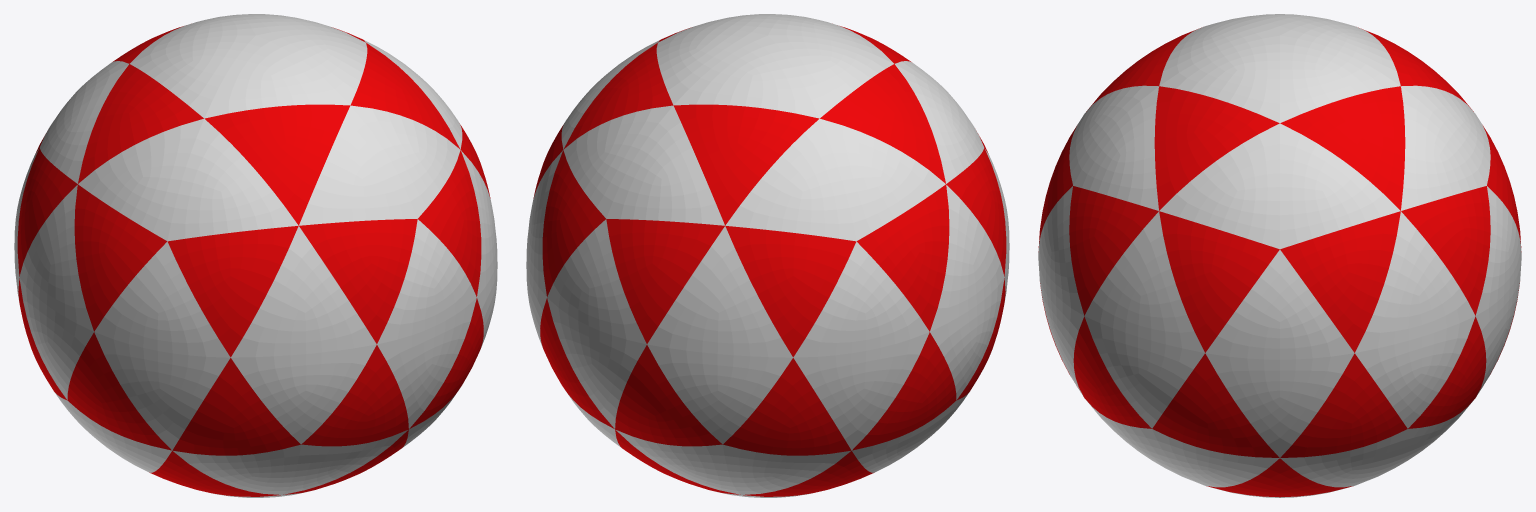
3 views of the same model, side by side, from view 1: azimuth 30°, elevation 25°; view 2: azimuth 150°, elevation 25°; view 3: azimuth 270°, elevation 25° (orthographic).
Visible parts, largest first — view 1: sphere; view 2: sphere; view 3: sphere.
Boxes of the visible parts, x1,y1,x2,y2 form: sphere: [14, 14, 497, 497]; sphere: [526, 14, 1009, 497]; sphere: [1038, 14, 1521, 497].
Size of the model in its own units: 1.85 by 1.86 by 1.85.
